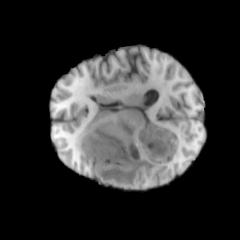glioma: (75, 116, 181, 187)
